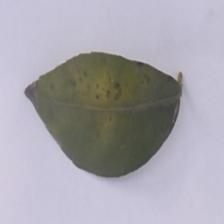black spot: (53, 78, 177, 162)
